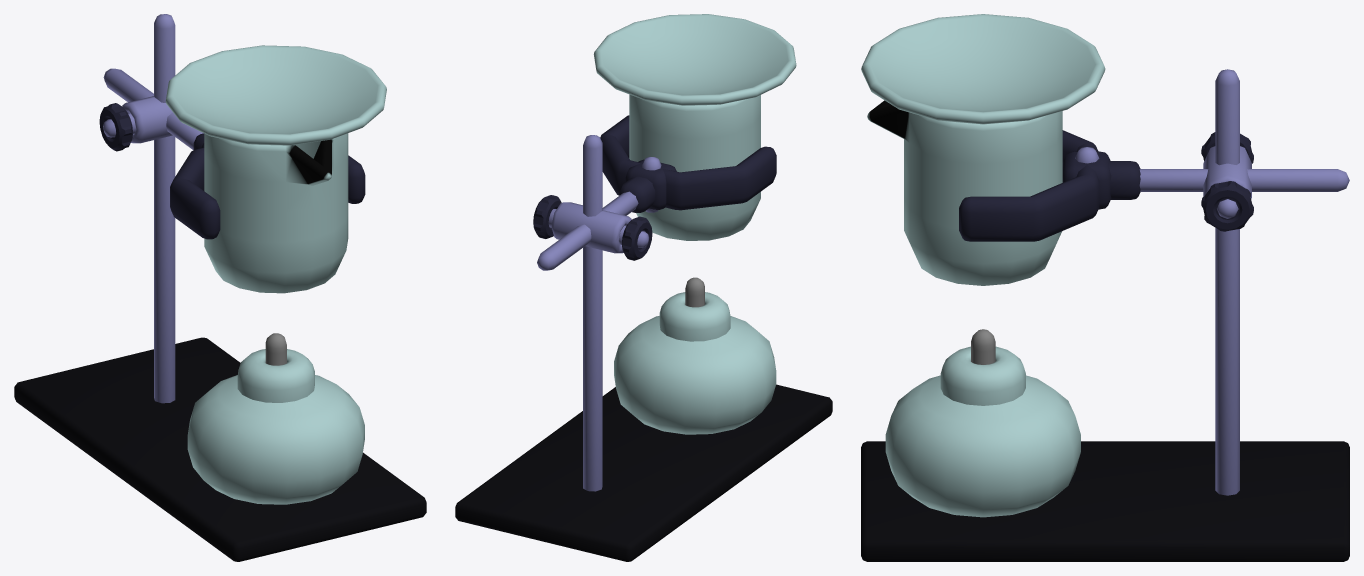
File: LastLuna_Model_Station_Heater.fbx
3 views of the same model, side by side, from view 1: azimuth 30°, elevation 25°; view 2: azimuth 150°, elevation 25°; view 3: azimuth 270°, elevation 25° (orthographic). The views are drawn at different scales.
Parts seen in each view (by area): view 1: Stand_Base001, Alcohol_Lamp001, Beaker001, Watch_Glass001, Stand_Pole001, Stand_Arm_Clip_Right001, Stand_Fixture001, Stand_Arm_Clip_Rod001, Stand_Fixture_Handle001, Stand_Arm_Clip_Left001, Alcohol_Lamp_Wick001; view 2: Stand_Base001, Alcohol_Lamp001, Watch_Glass001, Beaker001, Stand_Pole001, Stand_Arm_Clip_Right001, Stand_Fixture001, Stand_Arm_Clip_Rod001, Stand_Arm_Clip_Left001, Stand_Arm_Clip001, Stand_Fixture_Handle001, Alcohol_Lamp_Wick001; view 3: Stand_Base001, Alcohol_Lamp001, Watch_Glass001, Beaker001, Stand_Pole001, Stand_Arm_Clip_Left001, Stand_Arm_Clip_Rod001, Stand_Arm_Clip001, Stand_Fixture_Handle001, Stand_Fixture001, Alcohol_Lamp_Wick001.
Boxes of the visible parts, x1,y1,x2,y2 form: Stand_Base001: (14,337,426,561); Alcohol_Lamp001: (187,349,364,504); Beaker001: (204,133,348,293); Watch_Glass001: (165,45,386,145); Stand_Pole001: (154,14,175,403); Stand_Arm_Clip_Right001: (170,147,220,239); Stand_Fixture001: (103,96,172,143); Stand_Arm_Clip_Rod001: (103,68,203,149); Stand_Fixture_Handle001: (99,103,132,151); Stand_Arm_Clip_Left001: (348,155,365,203); Alcohol_Lamp_Wick001: (265,333,286,365); Stand_Base001: (455,384,832,561); Alcohol_Lamp001: (614,292,776,434); Watch_Glass001: (593,14,796,105); Beaker001: (629,94,760,240); Stand_Pole001: (583,135,602,491); Stand_Arm_Clip_Right001: (663,146,776,210); Stand_Fixture001: (548,202,648,253); Stand_Arm_Clip_Rod001: (537,191,638,270); Stand_Arm_Clip_Left001: (600,115,639,195); Stand_Arm_Clip001: (619,159,676,212); Stand_Fixture_Handle001: (533,195,652,260); Alcohol_Lamp_Wick001: (685,277,704,307); Stand_Base001: (861,441,1349,561); Alcohol_Lamp001: (885,346,1080,517); Watch_Glass001: (861,14,1105,124); Beaker001: (867,100,1062,285); Stand_Pole001: (1215,69,1239,495); Stand_Arm_Clip_Left001: (959,165,1099,241); Stand_Arm_Clip_Rod001: (1139,169,1349,191); Stand_Arm_Clip001: (1062,151,1140,209); Stand_Fixture_Handle001: (1201,132,1253,231); Stand_Fixture001: (1203,146,1251,218); Alcohol_Lamp_Wick001: (971,329,995,364).
Size of the model in its own units: 39.37 by 79.84 by 78.74.
